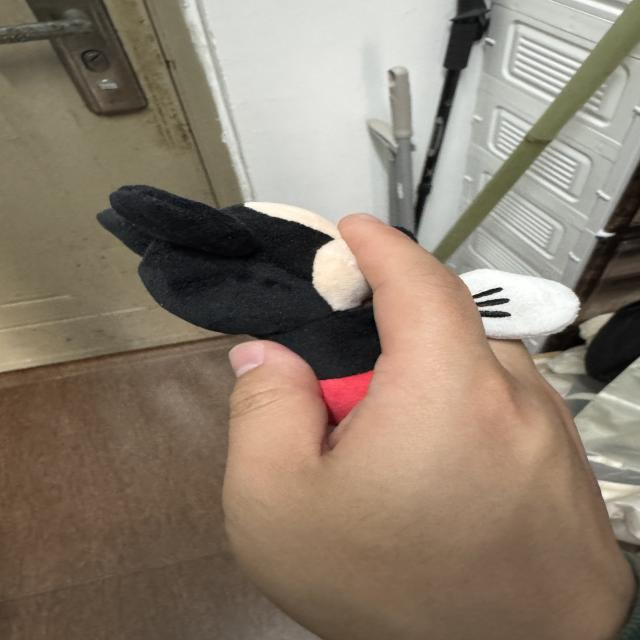mickey: (98, 186, 380, 421)
